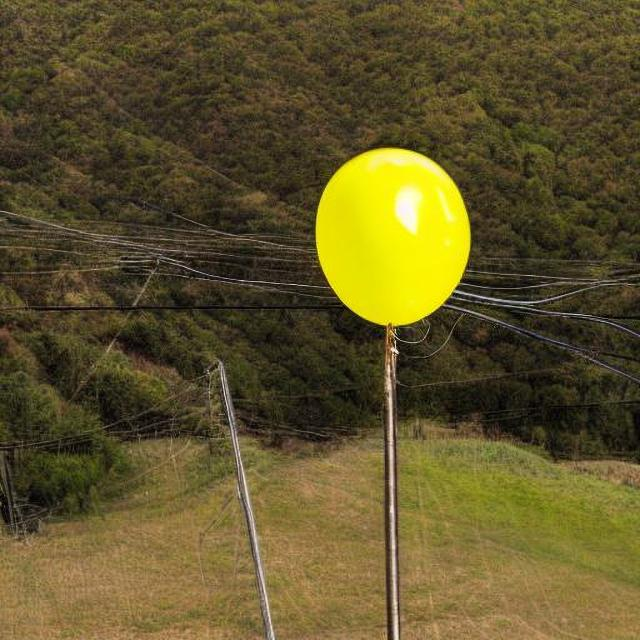balloon: (307, 143, 469, 337)
